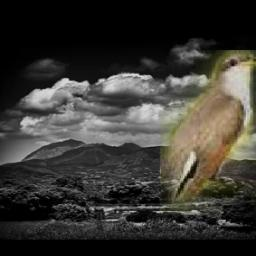Cuckoo: (159, 50, 256, 214)
